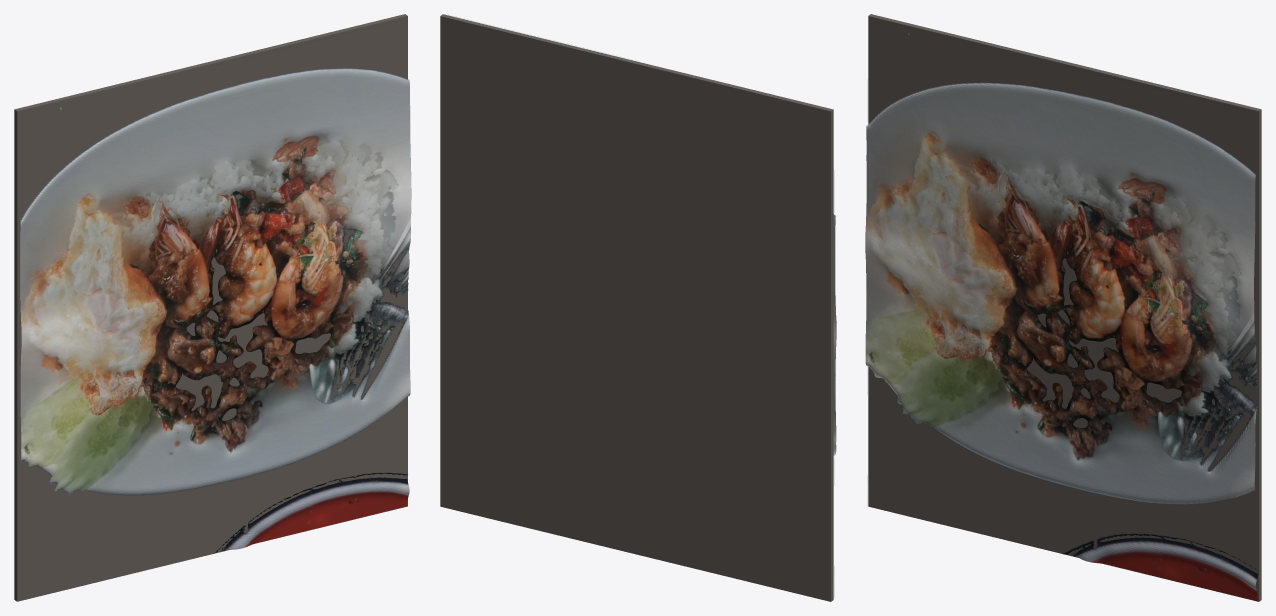
File: kaprao-relief.glb
3 renders of one model, left to right at view 1: azimuth 30°, elevation 25°; view 2: azimuth 150°, elevation 25°; view 3: azimuth 330°, elevation 25°, orthographic.
Parts seen in each view (by area): view 1: Photorealistic food photo relief, Thin backing; view 2: Thin backing, Photorealistic food photo relief; view 3: Photorealistic food photo relief, Thin backing.
Boxes of the visible parts, x1,y1,x2,y2 form: Photorealistic food photo relief: (20,68,411,553); Thin backing: (14,14,407,601); Thin backing: (440,14,833,601); Photorealistic food photo relief: (833,171,836,596); Photorealistic food photo relief: (865,32,1258,601); Thin backing: (868,14,1261,601).
Size of the model in its own units: 1 by 1.2 by 0.0311.
1 material, 1 textured.
